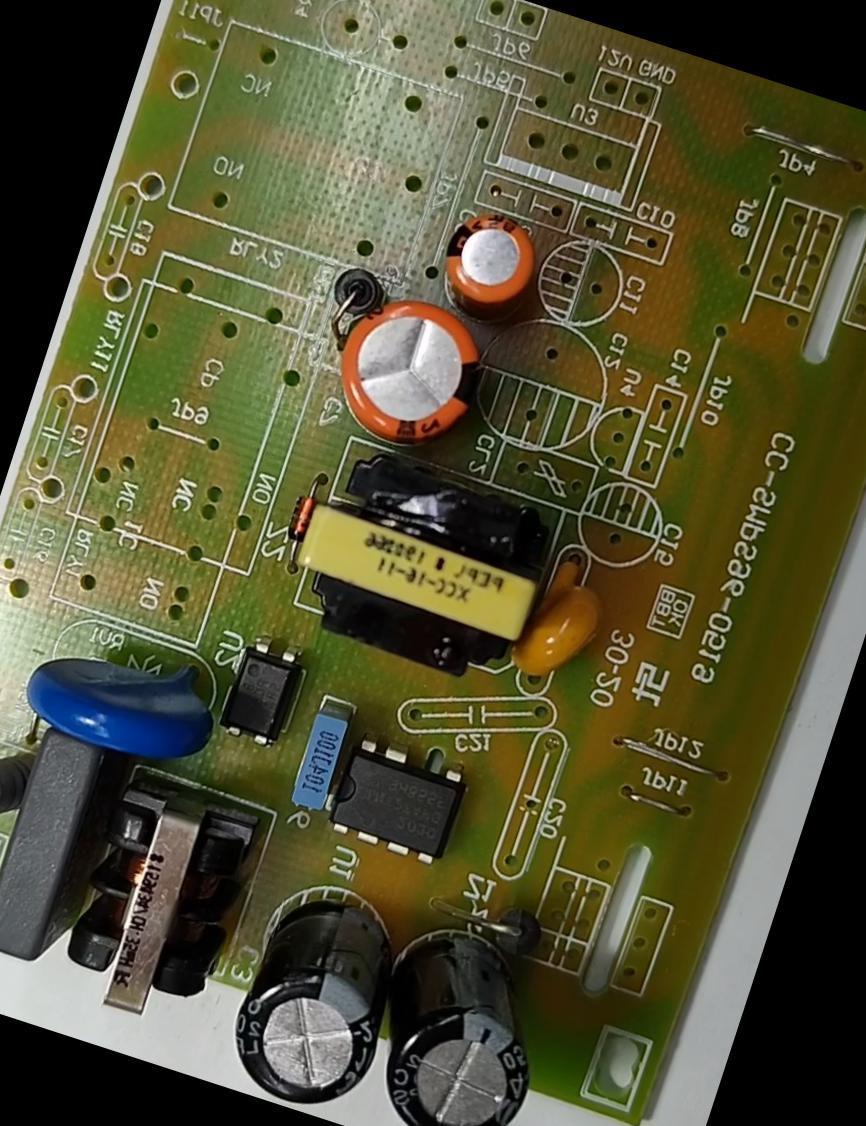Cap1: (313, 280, 510, 468)
Cap2: (430, 195, 558, 327)
Cap3: (370, 974, 551, 1125)
Cap4: (179, 925, 413, 1125)
MOSFET: (307, 724, 489, 882)
Mov: (11, 630, 232, 792)
Resistor: (0, 733, 35, 857)
Transformer: (258, 435, 574, 705), (26, 762, 278, 1052)
